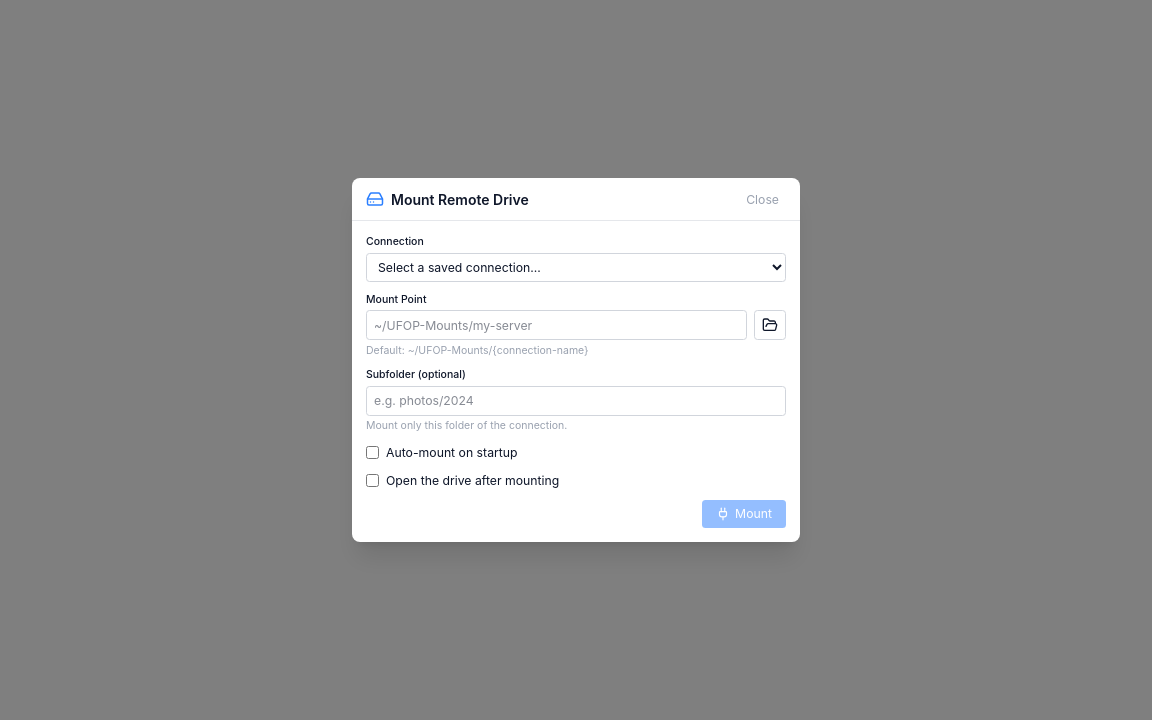
Scenario: subfolder and open after mounting › shows why a mount failed
Select "nas (SFTP - h)" in the dropdown labelled "Connection" at {"x": 576, "y": 268}, box x1=366 y1=253 x2=786 y2=282
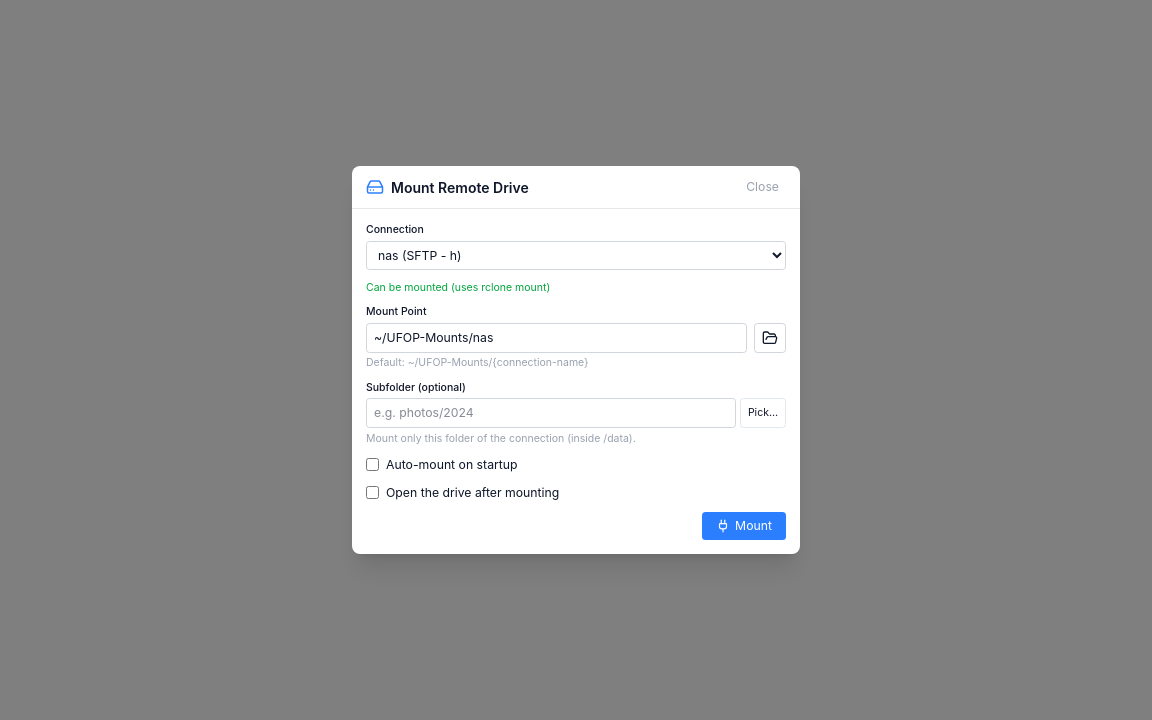
Check: the text "Can be mounted (uses rclone mount)" is shown, box x1=366 y1=280 x2=550 y2=294
Click the button "Mount" at {"x": 744, "y": 526}, box x1=702 y1=512 x2=786 y2=540
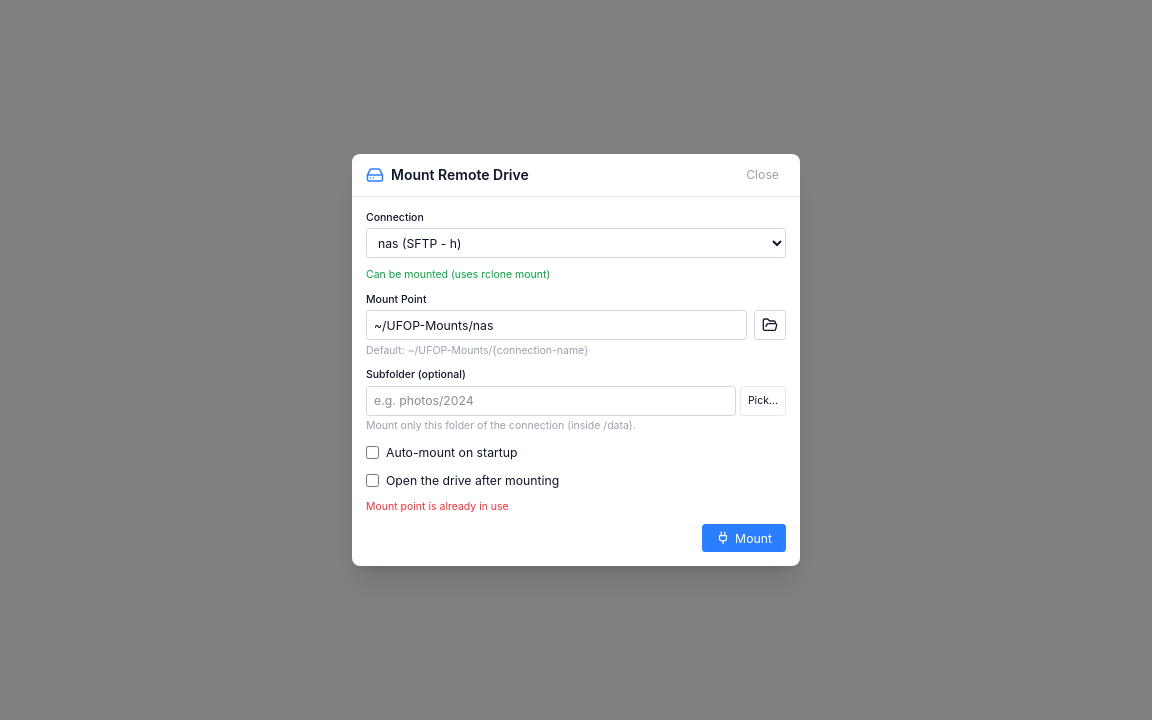
Check: the message shows "already in use", box x1=366 y1=500 x2=509 y2=513
